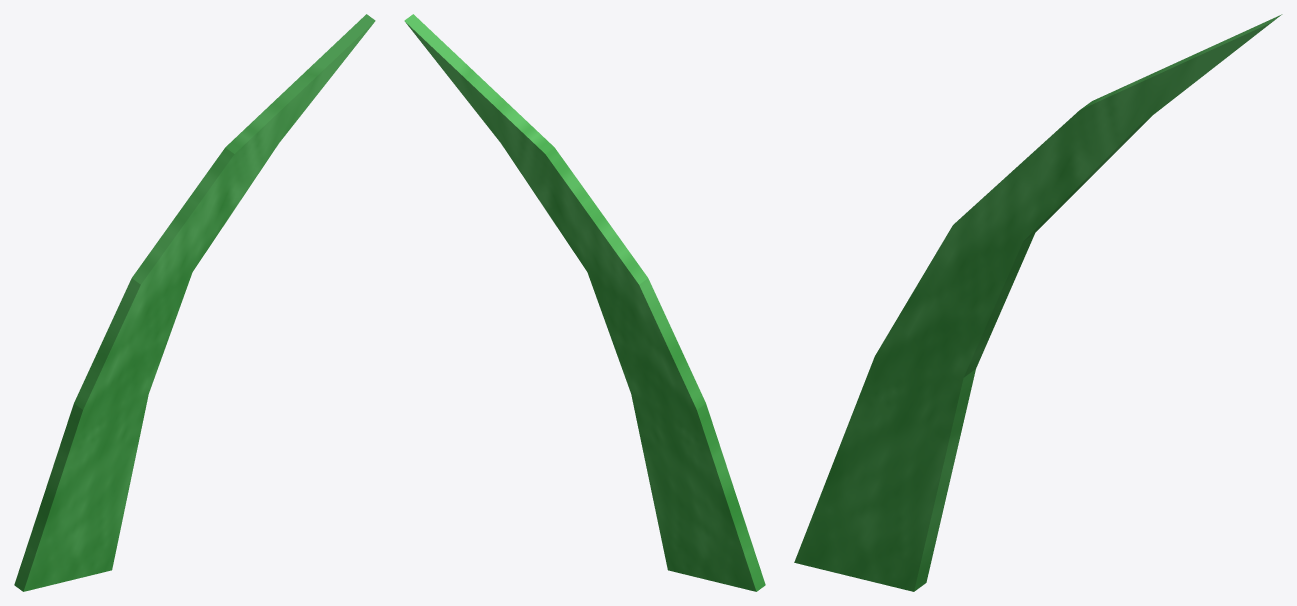
The model's file is Gras_ml.obj.
3 views of the same model, side by side, from view 1: azimuth 30°, elevation 25°; view 2: azimuth 150°, elevation 25°; view 3: azimuth 330°, elevation 25° (orthographic). The views are drawn at different scales.
Visible parts, largest first — view 1: Plane.005; view 2: Plane.005; view 3: Plane.005.
Part boxes in pixels (x1=…): Plane.005: x1=14, y1=14, x2=375, y2=591; Plane.005: x1=404, y1=14, x2=765, y2=591; Plane.005: x1=794, y1=14, x2=1282, y2=591.
Bounding box in the file's own units: 22.09 × 29.07 × 1.
